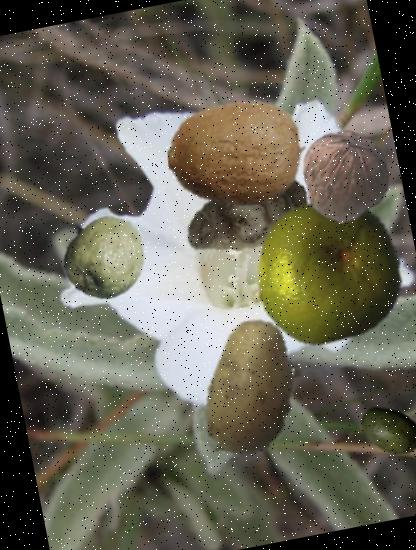Avocado: (353, 391, 416, 467)
Ginger: (172, 140, 322, 290)
Kiwi: (156, 73, 318, 236)
Limes: (53, 205, 155, 307)
Pomelo: (241, 184, 413, 356)
Potato: (165, 304, 339, 478)
Walnut: (290, 121, 400, 231)
